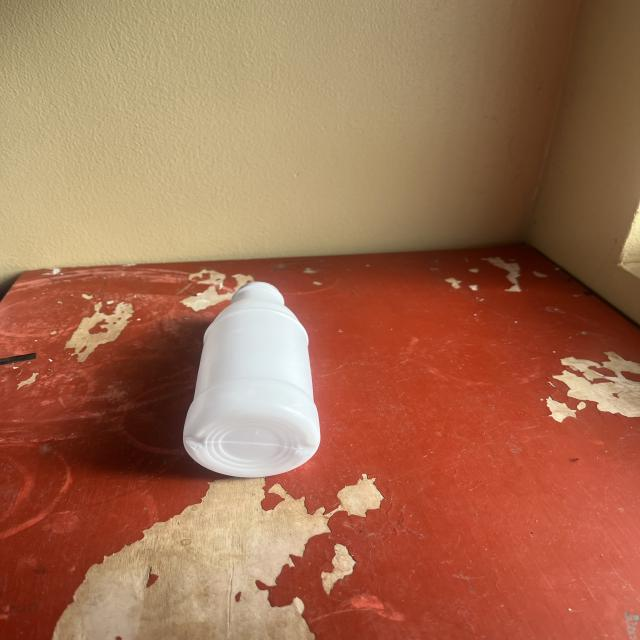HDPE_Bottle: (184, 282, 319, 477)
